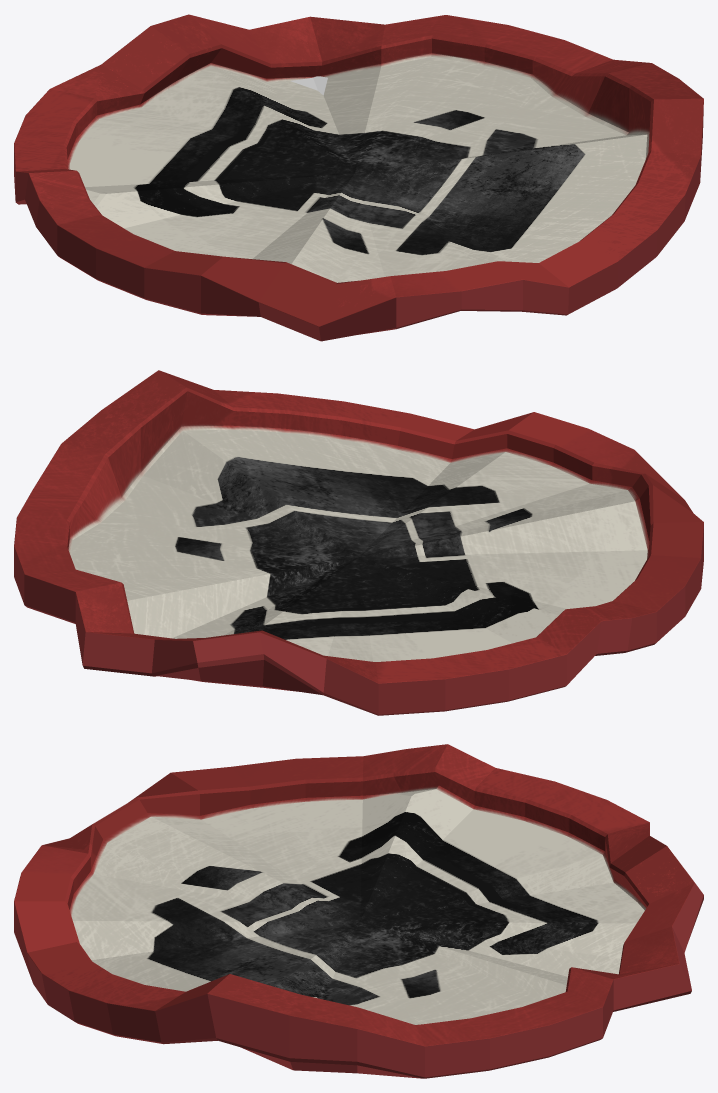
3 renders of one model, top to bottom at view 1: azimuth 30°, elevation 25°; view 2: azimuth 150°, elevation 25°; view 3: azimuth 270°, elevation 25°, orthographic.
Visible parts, largest first — view 1: Cylinder.056; view 2: Cylinder.056; view 3: Cylinder.056.
Part boxes in pixels (x1,y1,x2,y2): Cylinder.056: (14, 14, 703, 341); Cylinder.056: (14, 370, 703, 715); Cylinder.056: (14, 744, 703, 1078).
Size of the model in its own units: 200 by 32.84 by 199.
3 materials, 1 textured.
